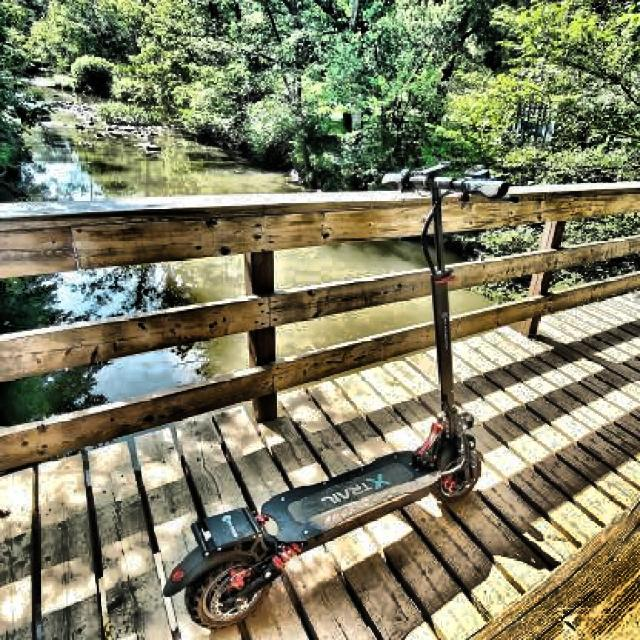bike: (162, 408, 483, 630)
